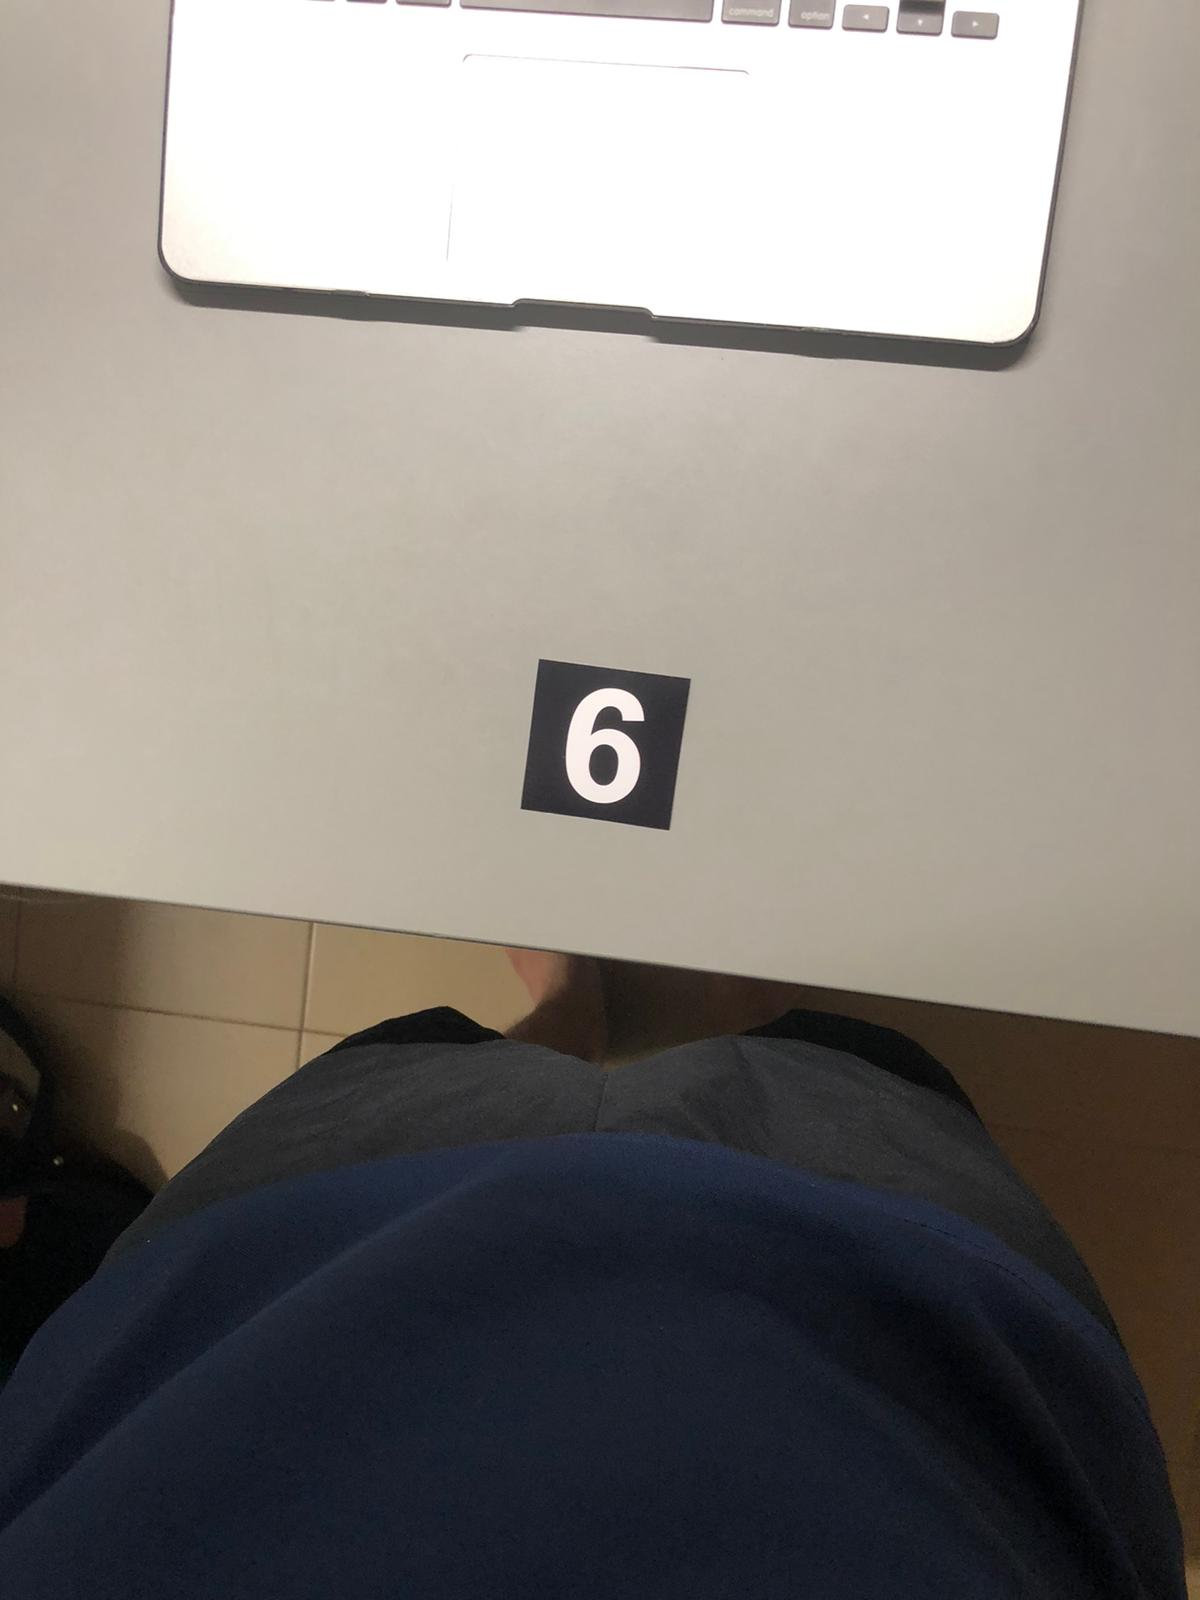Number 6: (539, 664, 671, 815)
